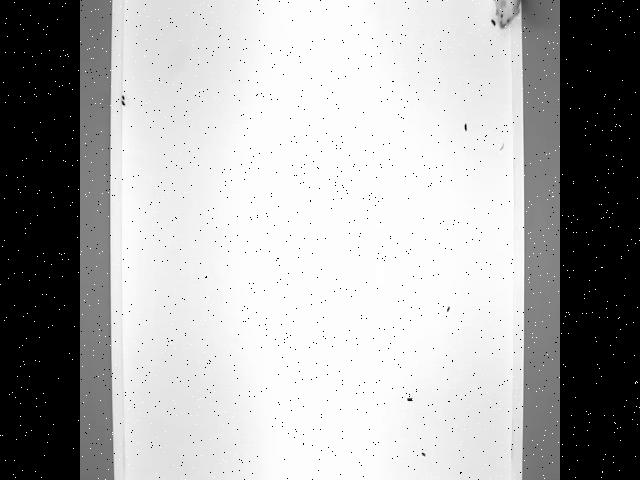Tikus: (490, 0, 526, 27)
